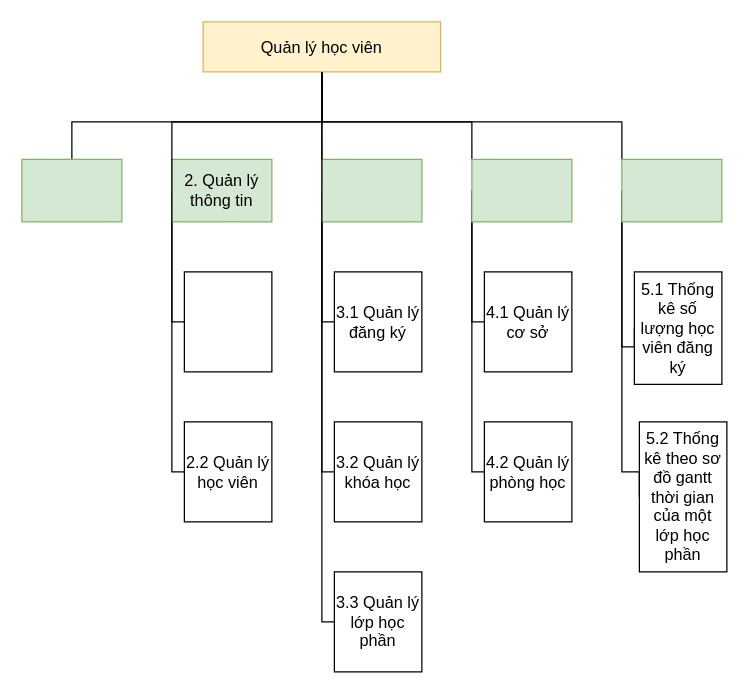
Some shapes in this 749 by 694 pixel diagram are drawn without their labels. The box of each missing label's shape, as (x1, y1, x2, y2) in pixels:
1. Đăng nhập: (21, 158, 122, 222)
2.1 Quản lý giáo viên: (183, 271, 272, 372)
3. Quản lý học tập: (321, 158, 422, 222)
4. Quản lý cơ sở vật chất: (471, 158, 572, 222)
5. Thống kê: (621, 158, 722, 222)
